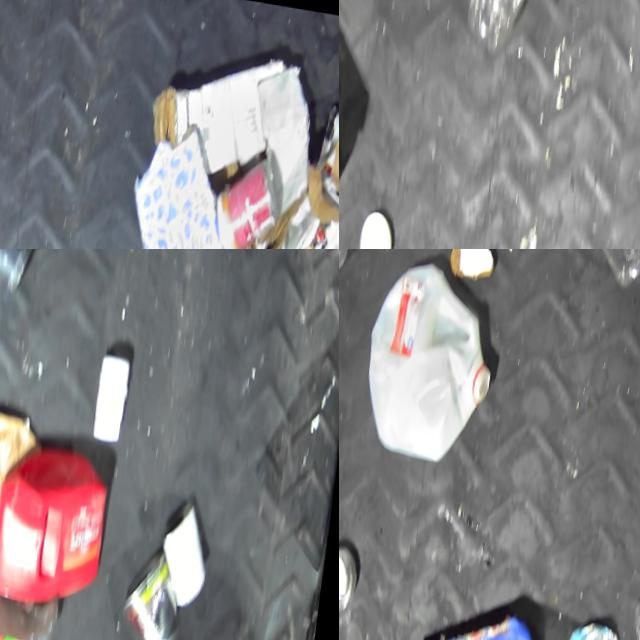can: (208, 147, 285, 249), (117, 539, 189, 640), (153, 490, 215, 607), (339, 532, 364, 617)
milk_jug: (357, 249, 505, 466)
non_white_jug: (0, 436, 111, 605)
plastic_bottle: (460, 0, 588, 64), (0, 568, 59, 640)
